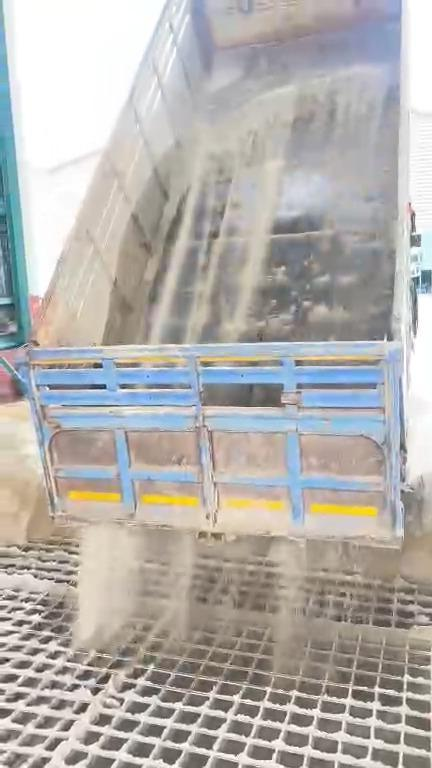sand: (1, 451, 432, 648), (139, 67, 384, 342), (124, 597, 432, 645), (61, 679, 121, 756), (274, 544, 308, 671), (1, 574, 77, 606), (209, 48, 250, 92)
